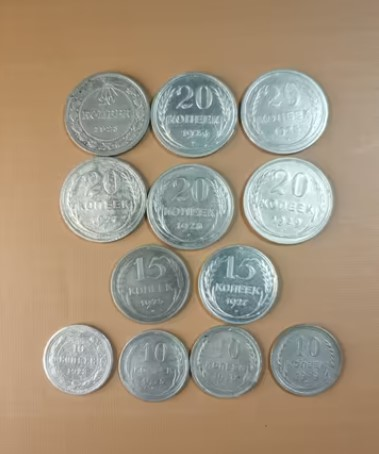coin: (241, 157, 334, 245), (239, 70, 329, 155), (150, 73, 238, 159), (147, 164, 234, 250), (59, 157, 147, 242), (64, 73, 151, 157), (199, 246, 277, 324), (110, 245, 189, 322), (268, 325, 341, 397), (190, 327, 261, 399), (43, 325, 114, 395), (118, 331, 189, 401)
